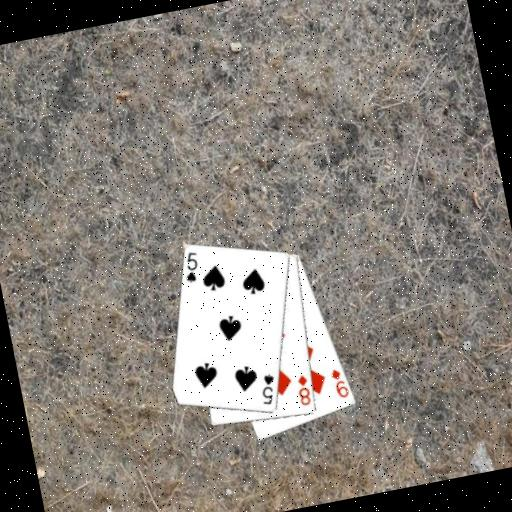5S: (178, 248, 204, 286), (255, 371, 280, 408)
8D: (293, 371, 314, 409)
9D: (327, 364, 351, 401)
